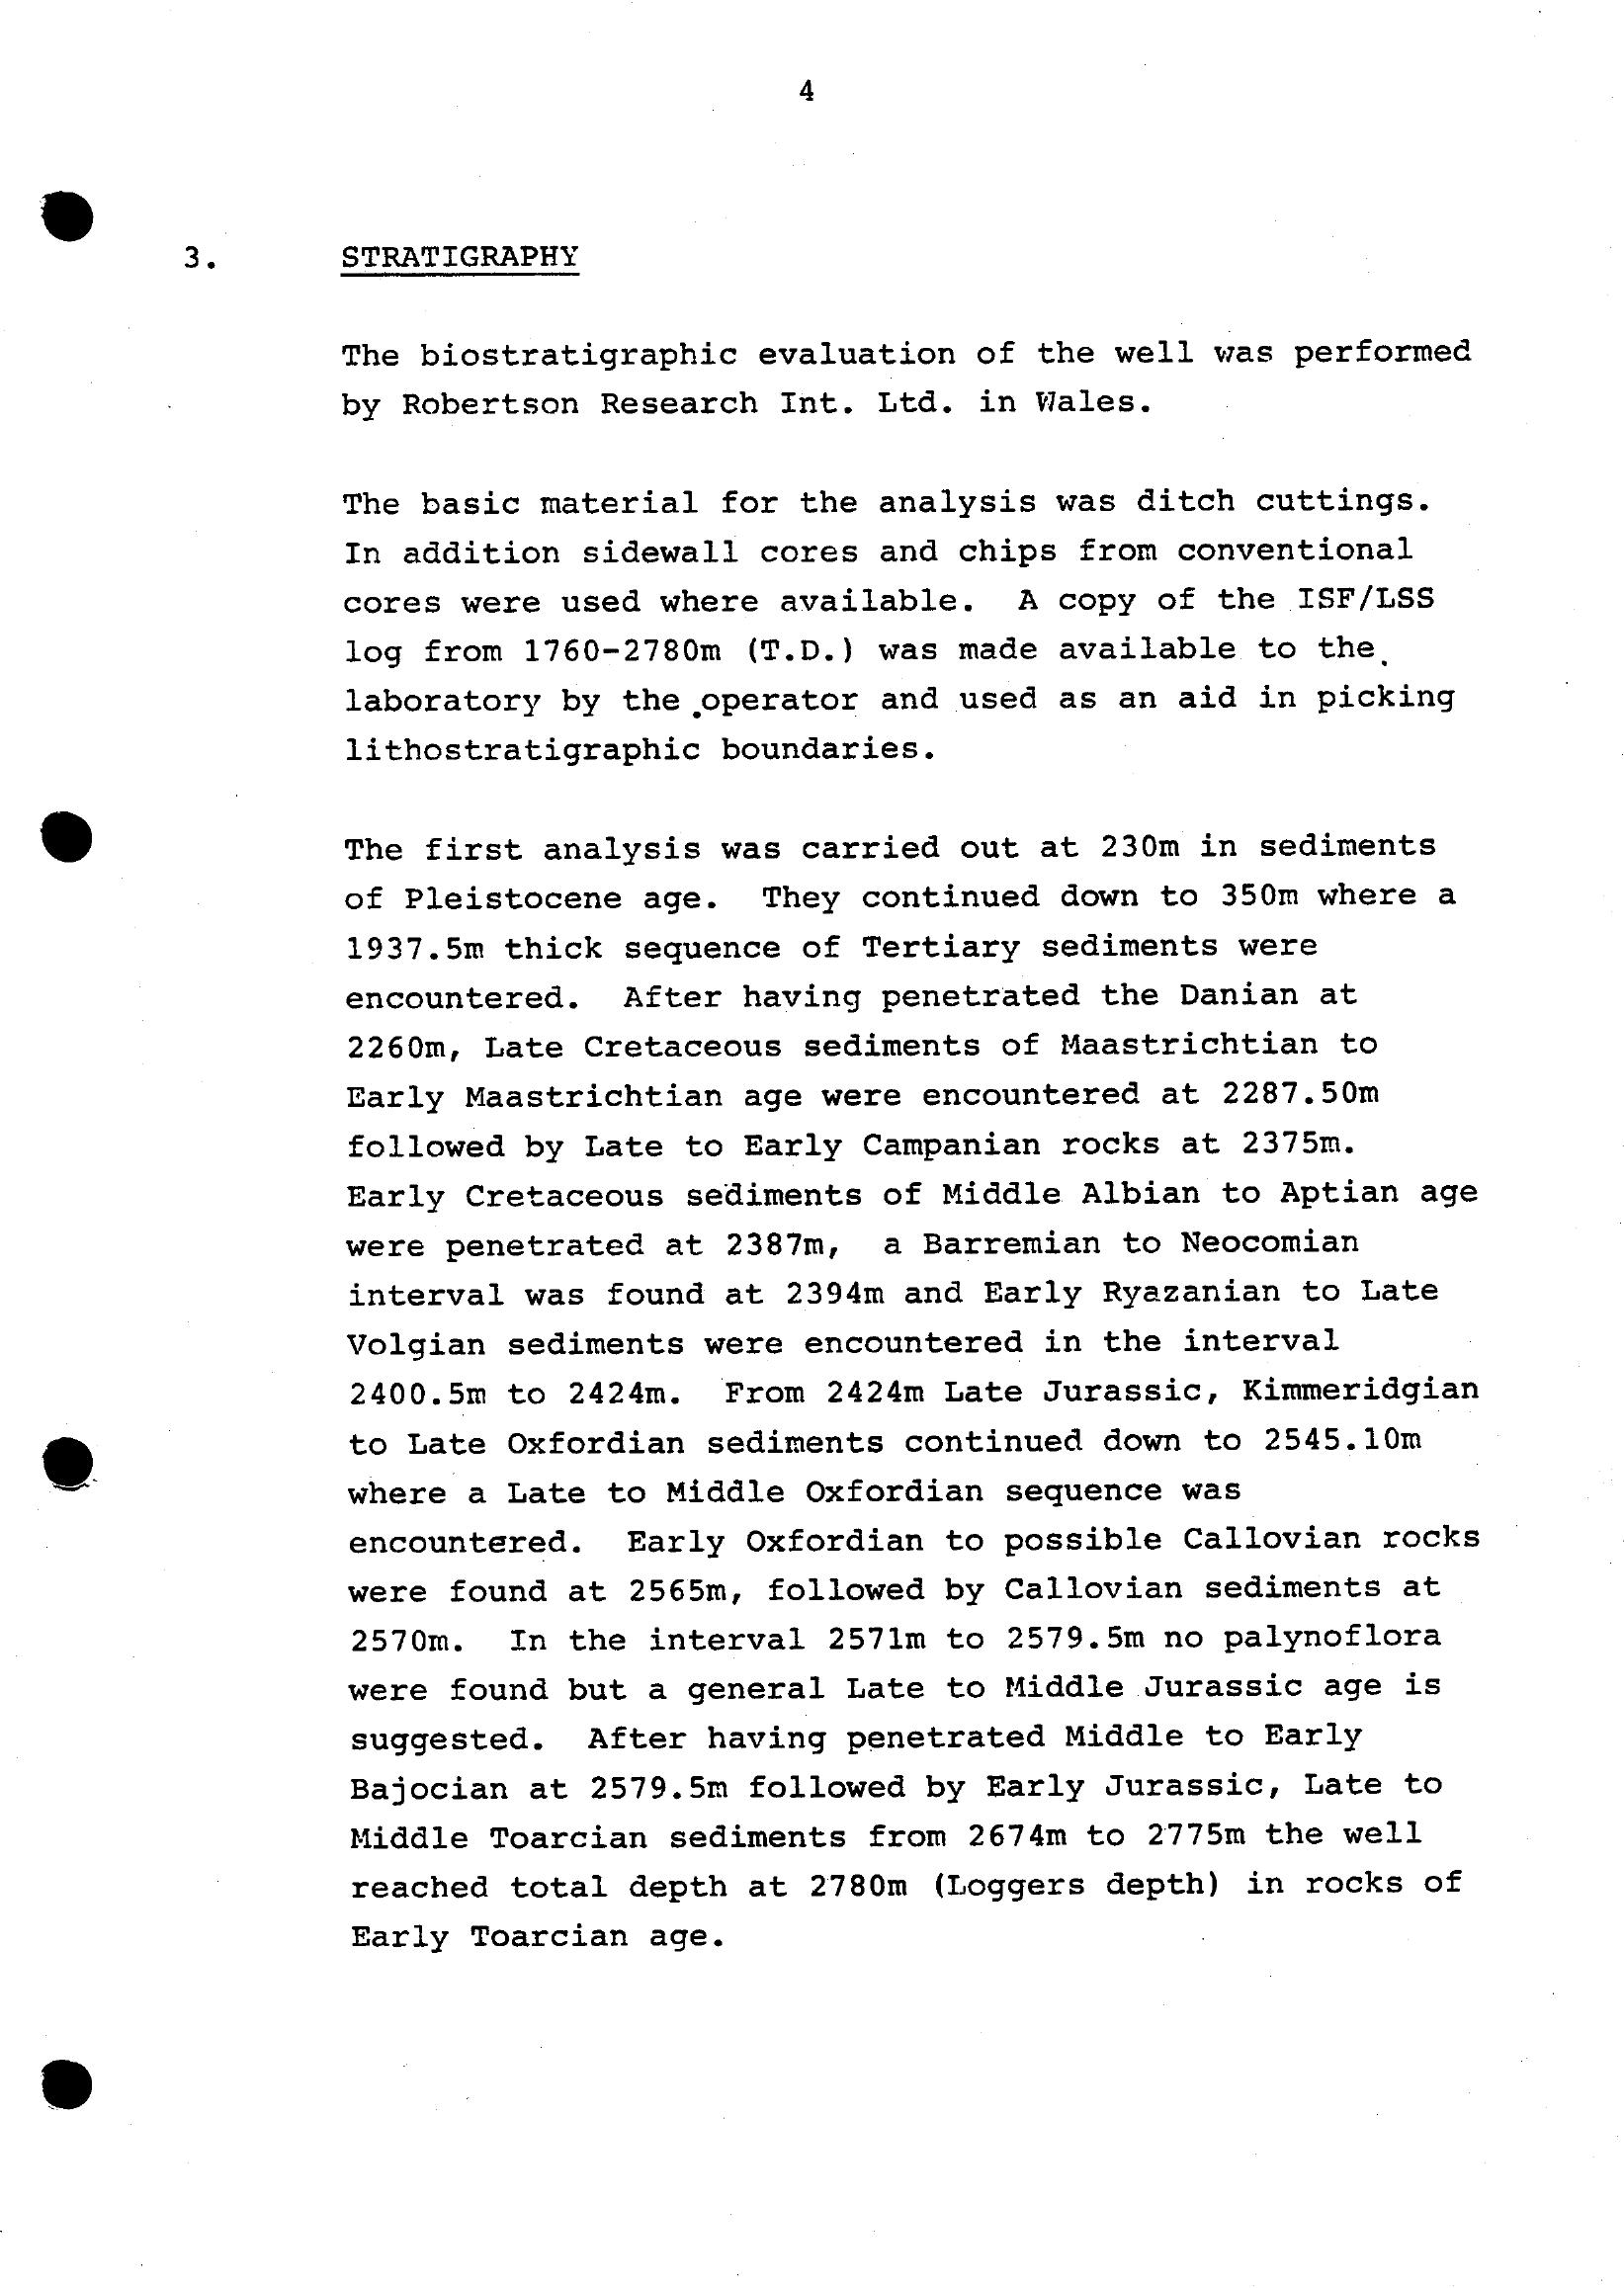text: (301, 163, 1536, 2003)
